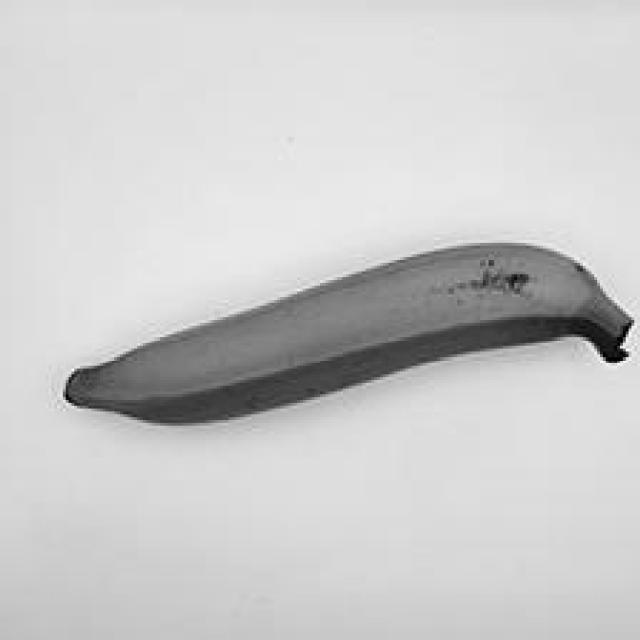Raw: (50, 223, 640, 435)
